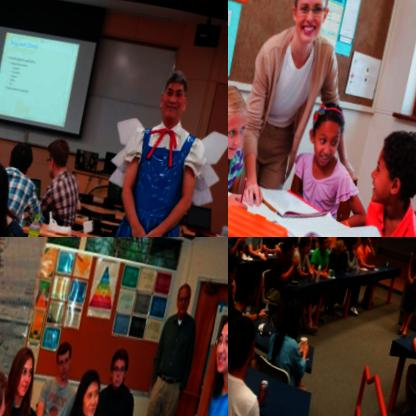head: (359, 115, 416, 225), (301, 100, 348, 175), (284, 0, 338, 47), (228, 82, 255, 171), (154, 68, 196, 125), (2, 344, 41, 405), (228, 310, 261, 381), (69, 364, 106, 416), (0, 139, 39, 180), (275, 294, 308, 340), (208, 307, 228, 380), (0, 157, 18, 237), (230, 266, 261, 311), (104, 346, 132, 390), (41, 135, 70, 177), (50, 337, 76, 378), (171, 275, 194, 316), (278, 237, 298, 262), (228, 250, 238, 285), (294, 237, 311, 256), (332, 237, 347, 254), (316, 237, 331, 252), (345, 237, 359, 253), (357, 237, 371, 248), (229, 237, 248, 243)
